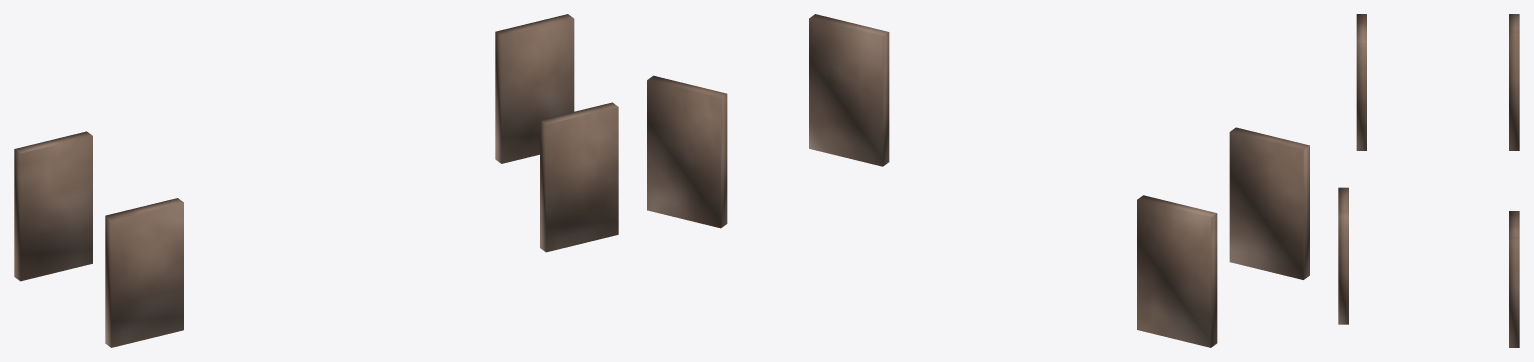
The model's file is field_helloween_gimmick.fbx.
3 views of the same model, side by side, from view 1: azimuth 30°, elevation 25°; view 2: azimuth 150°, elevation 25°; view 3: azimuth 270°, elevation 25° (orthographic). The views are drawn at different scales.
Parts seen in each view (by area): view 1: field_helloween_3_gimmick3, field_helloween_gimmick4, field_helloween_3_gimmick1, field_helloween_3_gimmick2; view 2: field_helloween_3_gimmick1, field_helloween_3_gimmick3, field_helloween_gimmick4, field_helloween_3_gimmick2; view 3: field_helloween_3_gimmick3, field_helloween_3_gimmick1, field_helloween_3_gimmick2, field_helloween_gimmick4.
Part boxes in pixels (x1,y1,x2,y2): field_helloween_3_gimmick3: (540, 102, 618, 252); field_helloween_gimmick4: (14, 131, 92, 281); field_helloween_3_gimmick1: (105, 198, 183, 347); field_helloween_3_gimmick2: (495, 14, 574, 163); field_helloween_3_gimmick1: (1229, 127, 1309, 279); field_helloween_3_gimmick3: (809, 14, 889, 166); field_helloween_gimmick4: (1137, 195, 1217, 347); field_helloween_3_gimmick2: (647, 75, 727, 228); field_helloween_3_gimmick3: (1338, 187, 1348, 324); field_helloween_3_gimmick1: (1356, 14, 1366, 150); field_helloween_3_gimmick2: (1509, 211, 1519, 347); field_helloween_gimmick4: (1509, 14, 1519, 150).
Size of the model in its own units: 1082 by 239 by 365.
1 material, 1 textured.
